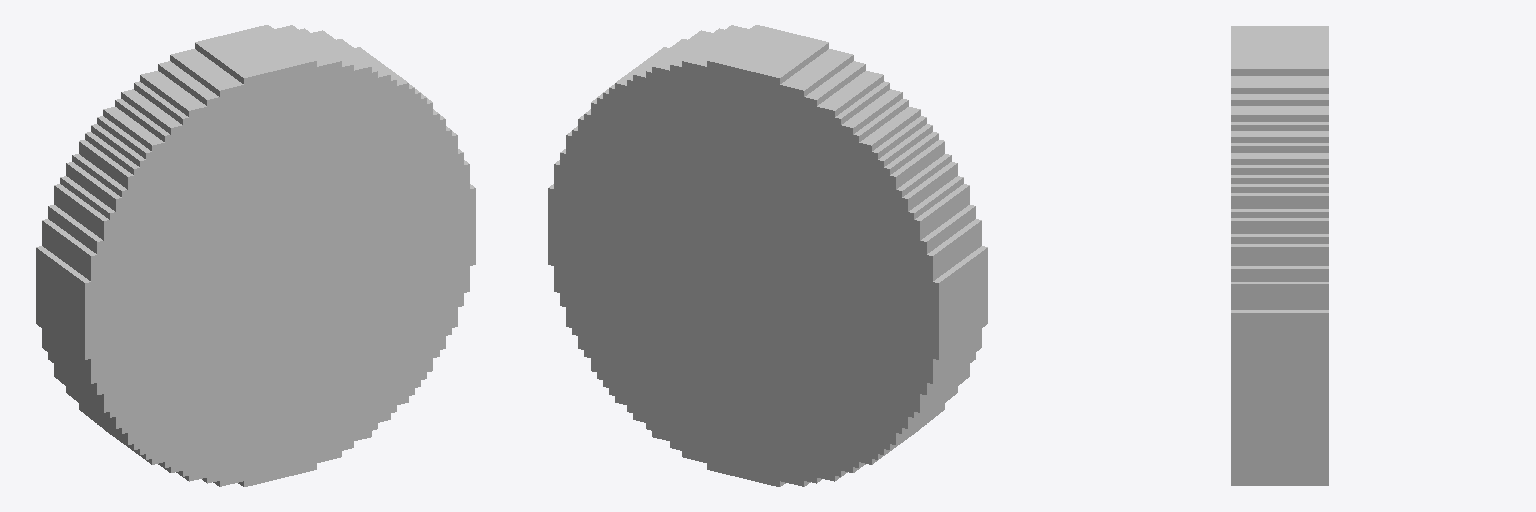
The picture shows the model from 3 angles: view 1: azimuth 30°, elevation 25°; view 2: azimuth 150°, elevation 25°; view 3: azimuth 270°, elevation 25°; orthographic projection.
Visible parts, largest first — view 1: object 1; view 2: object 1; view 3: object 1.
Boxes of the visible parts, x1,y1,x2,y2 form: object 1: [36, 25, 475, 486]; object 1: [548, 25, 987, 486]; object 1: [1231, 26, 1328, 485].
Size of the model in its own units: 6.4 by 6.4 by 1.4.
Materials: 1 (1 with a texture image).